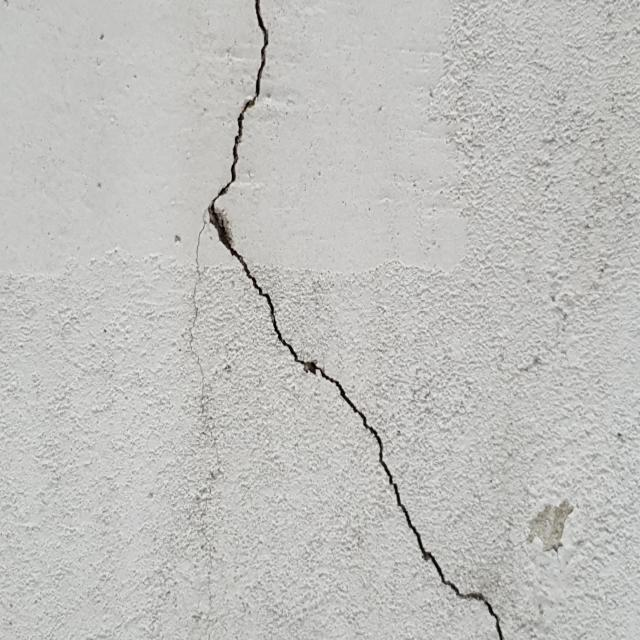SurfaceCrack: (188, 267, 536, 639)
